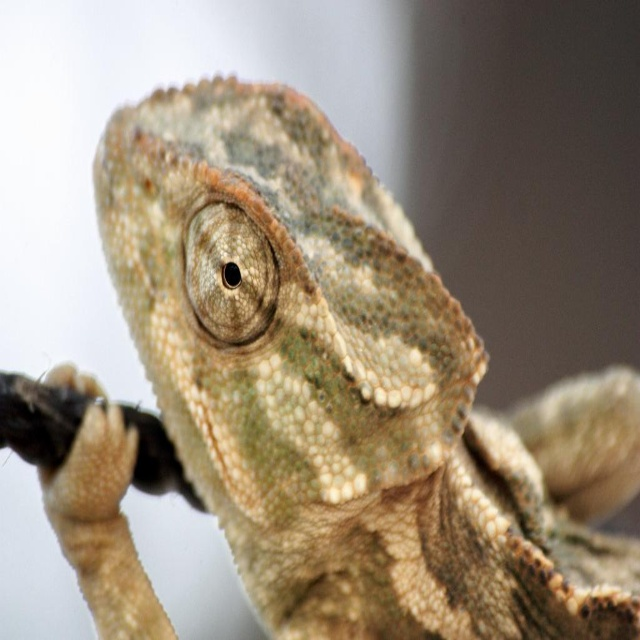Lizard: (35, 69, 640, 640)
